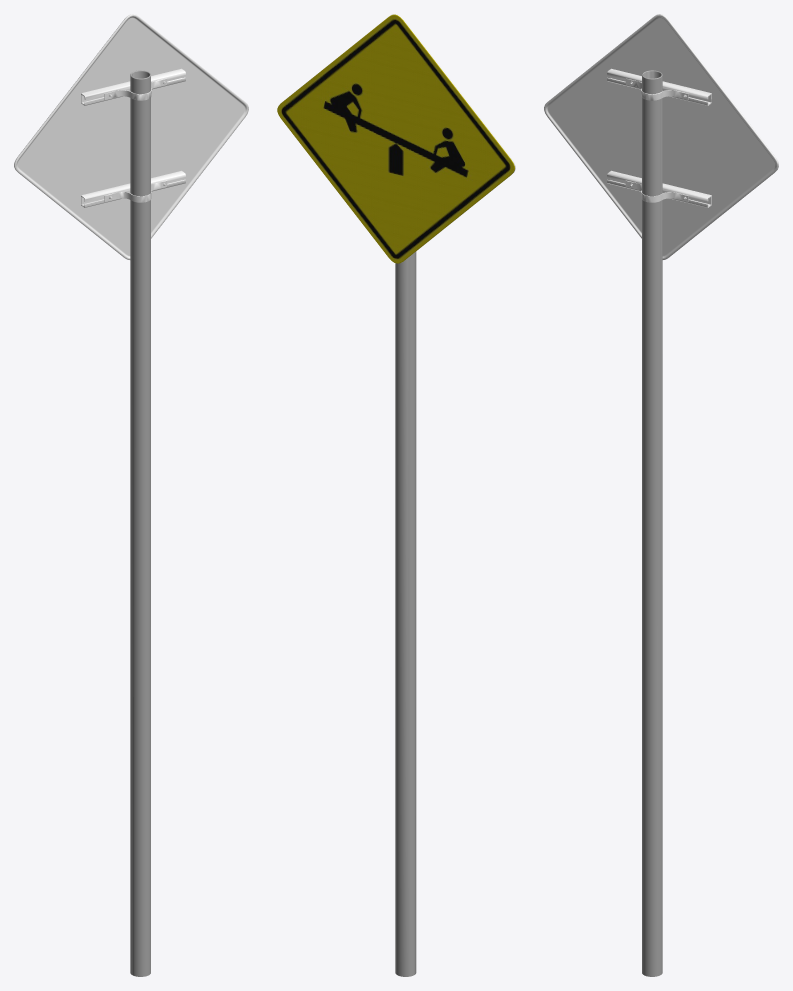
The model's file is o3_segnale_11.glb.
3 renders of one model, left to right at view 1: azimuth 30°, elevation 25°; view 2: azimuth 150°, elevation 25°; view 3: azimuth 330°, elevation 25°, orthographic.
Visible parts, largest first — view 1: sb_modello; view 2: sb_modello; view 3: sb_modello.
Boxes of the visible parts, x1=… form: sb_modello: x1=14, y1=14, x2=248, y2=976; sb_modello: x1=277, y1=14, x2=515, y2=976; sb_modello: x1=544, y1=14, x2=778, y2=976.
Size of the model in its own units: 0.7422 by 2.88 by 0.0843.
Materials: 5 (1 with a texture image).
